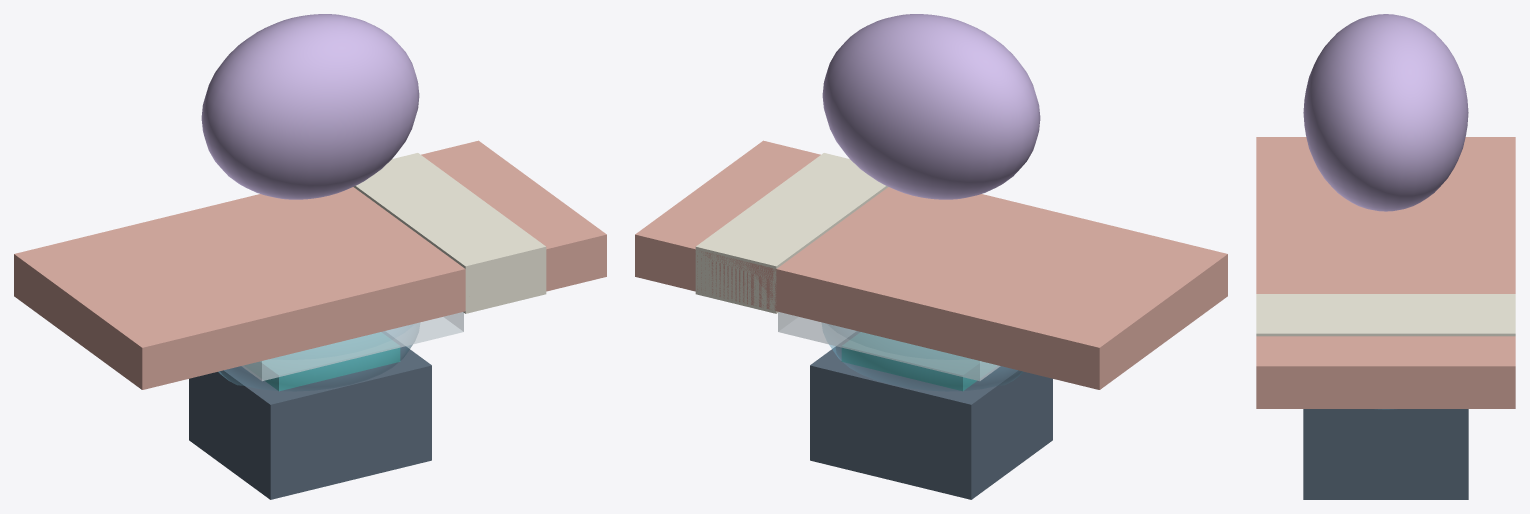
File: acoustic-contact-cutaway.glb
3 renders of one model, left to right at view 1: azimuth 30°, elevation 25°; view 2: azimuth 150°, elevation 25°; view 3: azimuth 270°, elevation 25°, orthographic.
Visible parts, largest first — view 1: airway_wall, target_node, scope_tip, cartilage, fluid_balloon, transducer, air_gap; view 2: airway_wall, target_node, scope_tip, cartilage, fluid_balloon, transducer, air_gap; view 3: airway_wall, target_node, scope_tip, cartilage.
Part boxes in pixels (x1,y1,x2,y2): airway_wall: (14, 140, 606, 389); target_node: (201, 14, 419, 199); scope_tip: (189, 331, 431, 499); cartilage: (353, 153, 546, 313); fluid_balloon: (218, 323, 419, 391); transducer: (245, 332, 400, 391); air_gap: (241, 312, 463, 381); airway_wall: (635, 140, 1227, 389); target_node: (822, 14, 1040, 199); scope_tip: (810, 331, 1052, 499); cartilage: (695, 153, 888, 313); fluid_balloon: (822, 323, 1023, 391); transducer: (841, 332, 996, 391); air_gap: (778, 312, 1000, 381); airway_wall: (1256, 137, 1515, 408); target_node: (1303, 14, 1468, 211); scope_tip: (1303, 409, 1468, 499); cartilage: (1256, 294, 1515, 336).
Size of the model in its own units: 0.046 by 0.0405 by 0.022.
